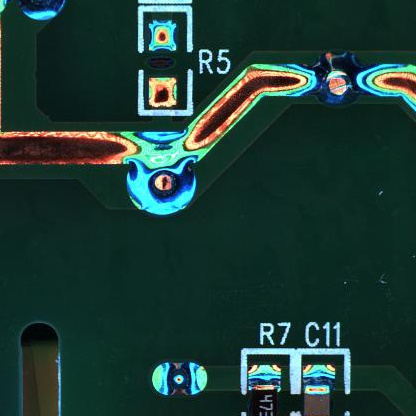spot: (123, 147, 201, 216), (310, 51, 363, 109), (149, 358, 208, 397)
